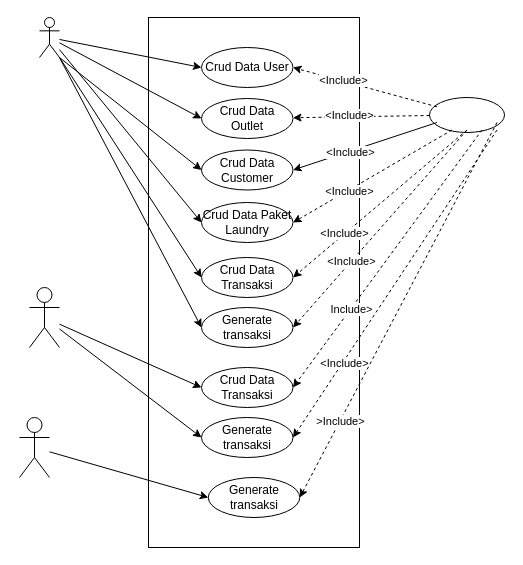
The diagram is 523 pixels wide and 565 high, and some of its shapes have lost their labels. Here are the shapes that lost their labels. From the top down, the centre of each, then its label:
the point at 49,37: Admin
the point at 466,114: Login
the point at 44,317: Karyawan
the point at 34,447: Owner
